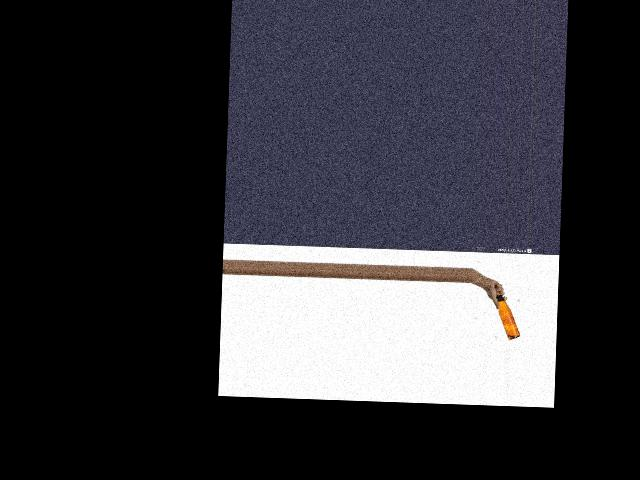beer: (493, 285, 521, 340)
